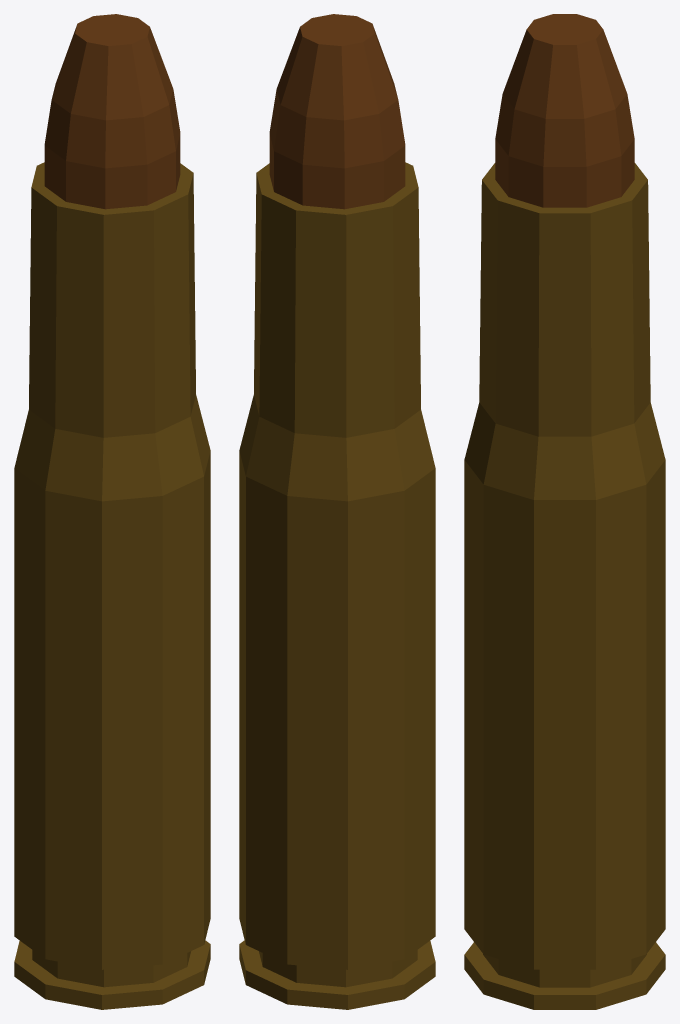
File: Repeater Ammo.glb
The picture shows the model from 3 angles, left to right: view 1: azimuth 30°, elevation 25°; view 2: azimuth 150°, elevation 25°; view 3: azimuth 270°, elevation 25°; orthographic projection.
Parts seen in each view (by area): view 1: Repeater Ammo; view 2: Repeater Ammo; view 3: Repeater Ammo.
Part boxes in pixels (box(x1,y1,x2,y2)): Repeater Ammo: box(14, 14, 210, 1009); Repeater Ammo: box(239, 14, 435, 1009); Repeater Ammo: box(464, 14, 665, 1009).
Size of the model in its own units: 1.29 by 7 by 1.36.
